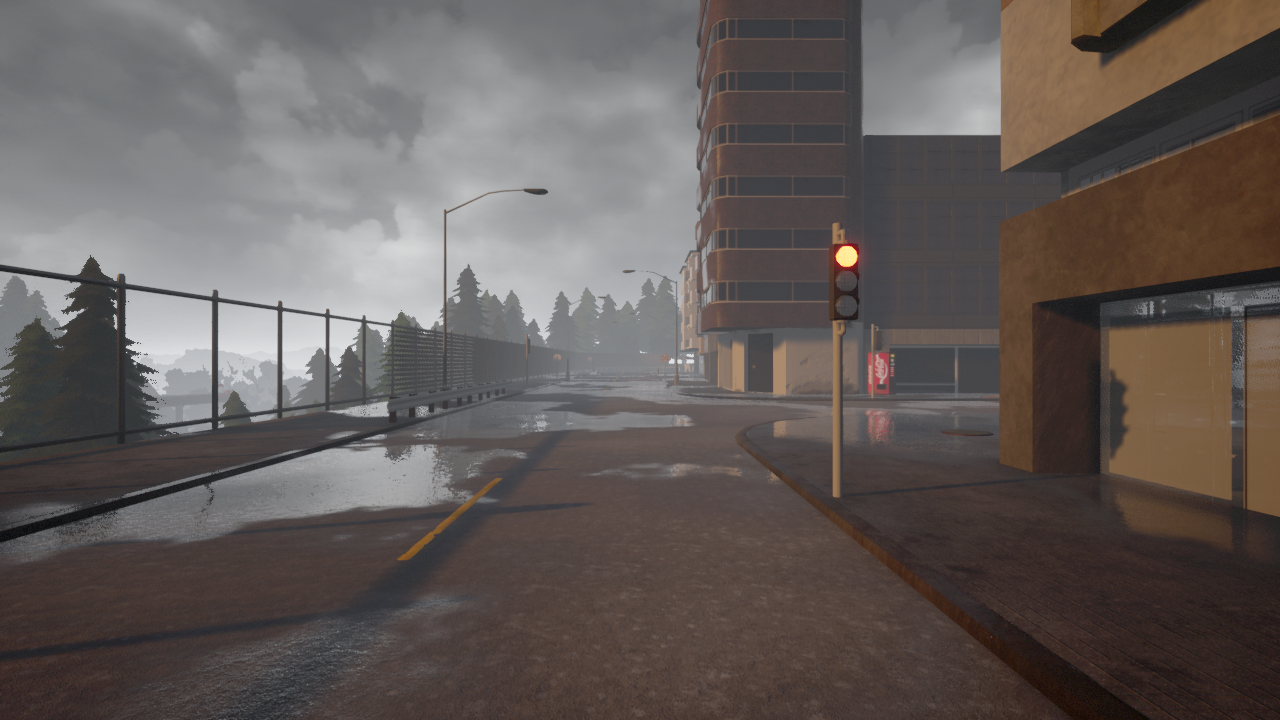red: (827, 242, 860, 324)
